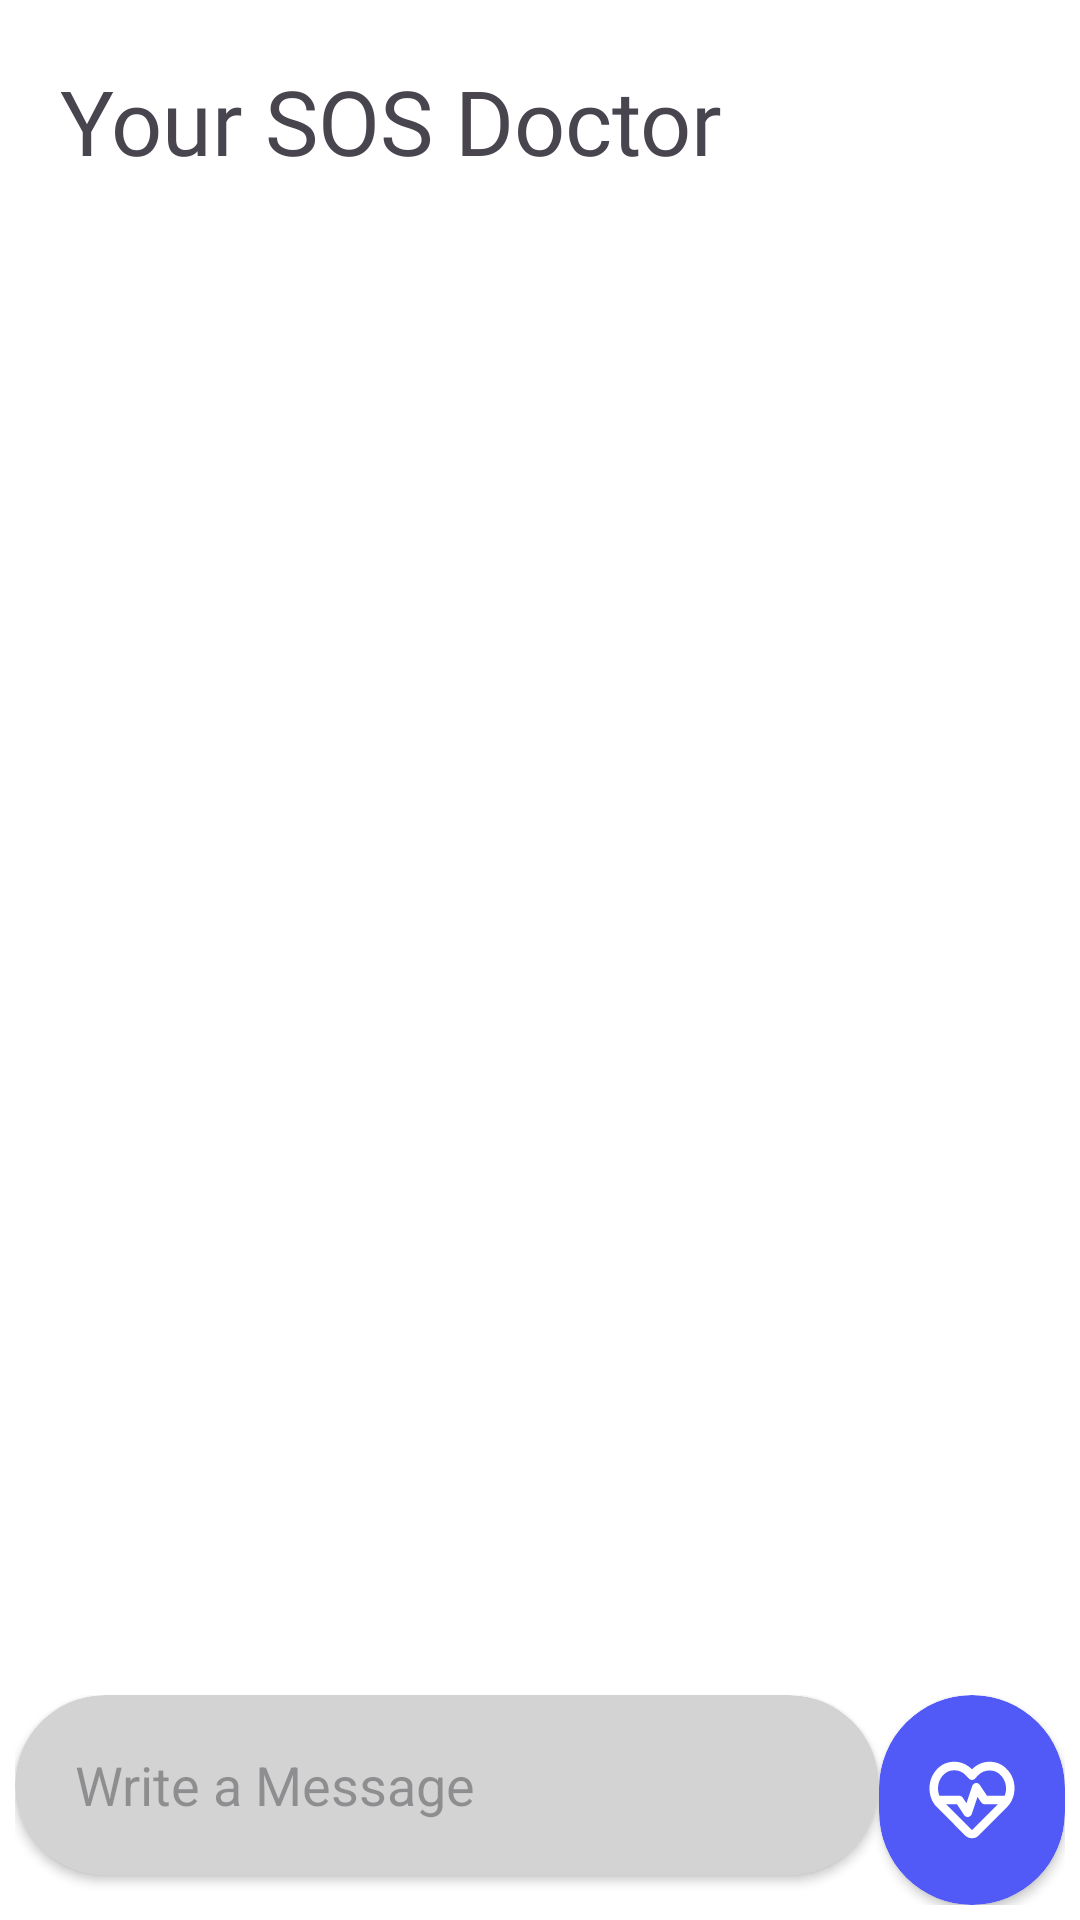

Icon click points for this 1080 × 1920 phone screenshot, format point (x, y):
ecg heart: point (972, 1800)
